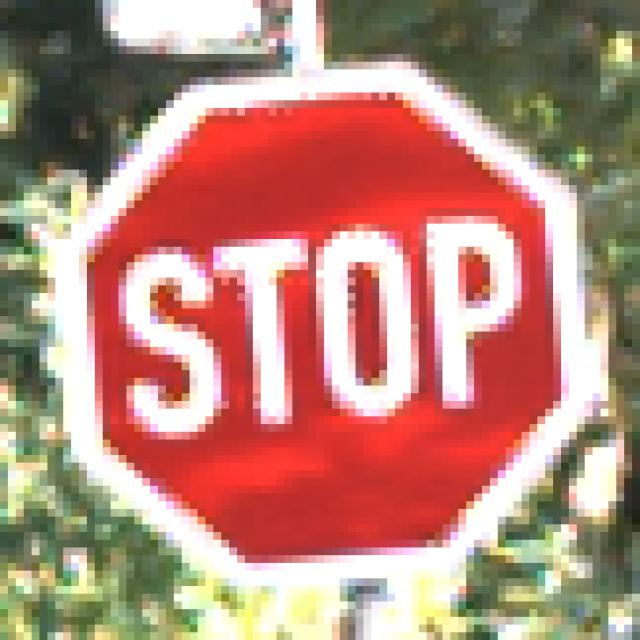STOP: (56, 63, 578, 587)
